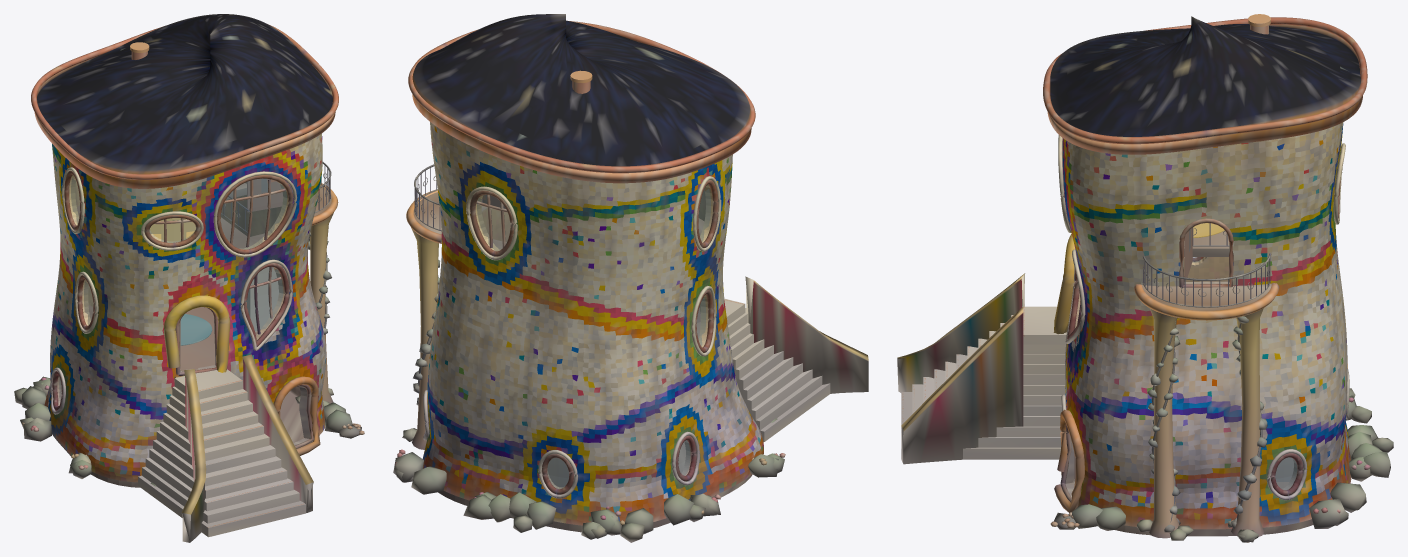
File: ev_mozaik.glb
3 views of the same model, side by side, from view 1: azimuth 30°, elevation 25°; view 2: azimuth 150°, elevation 25°; view 3: azimuth 270°, elevation 25° (orthographic). The views are drawn at different scales.
Parts seen in each view (by area): view 1: ev_mozaik_LOD0; view 2: ev_mozaik_LOD0; view 3: ev_mozaik_LOD0.
Boxes of the visible parts, x1=… form: ev_mozaik_LOD0: x1=14, y1=14, x2=364, y2=542; ev_mozaik_LOD0: x1=393, y1=14, x2=868, y2=542; ev_mozaik_LOD0: x1=897, y1=14, x2=1393, y2=542.
Size of what is drawn, in the model's own units: 13.08 by 16.92 by 16.26.
